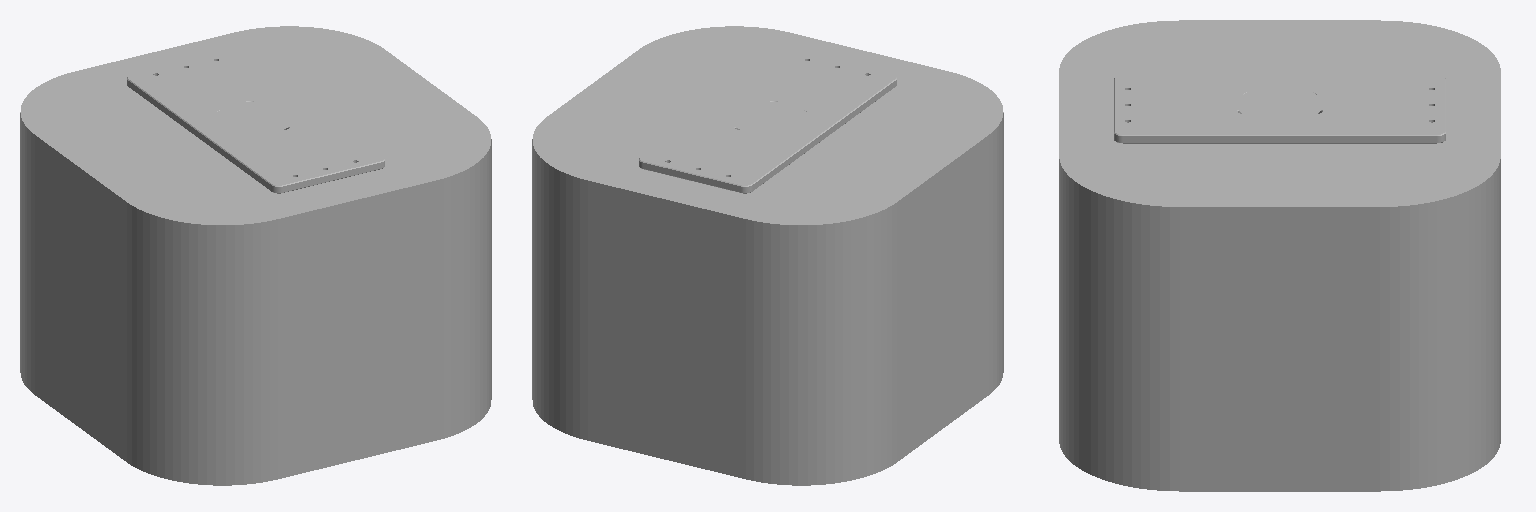
The robot description file, URDF, robot "gen3_robotiq_2f_85":
<?xml version="1.0" encoding="utf-8"?>
<!-- =================================================================================== -->
<!-- |    This document was autogenerated by xacro from gen3_robotiq_2f_85.xacro       | -->
<!-- |    EDITING THIS FILE BY HAND IS NOT RECOMMENDED                                 | -->
<!-- =================================================================================== -->
<robot name="gen3_robotiq_2f_85">
  <material name="Grey">
    <color rgba="0.75294 0.75294 0.75294 1"/>
  </material>
  <material name="DarkGrey">
    <color rgba="0.1 0.1 0.1 1"/>
  </material>
  <material name="LightGrey">
    <color rgba="0.9 0.9 0.9 1"/>
  </material>
  <material name="Blue">
    <color rgba="0.792156862745098 0.819607843137255 0.933333333333333 1"/>
  </material>
  <material name="Red">
    <color rgba="0.9 0.0 0.0 1"/>
  </material>
  <!-- Run the macros -->
  <link name="base_link">
    <inertial>
      <origin rpy="0 0 0" xyz="0 0 0.085"/>
      <mass value="1000.0"/>
      <inertia ixx="0.004622" ixy="9E-06" ixz="6E-05" iyy="0.004495" iyz="9E-06" izz="0.002079"/>
    </inertial>
    <visual>
      <origin rpy="0 0 0" xyz="0 0 0"/>
      <geometry>
        <mesh filename="package://ocs2_robotic_assets/resources/mobile_manipulator/kortex/meshes/mobile_base.obj"/>
      </geometry>
      <material name="Grey">
        <color rgba="0.75294 0.75294 0.75294 1"/>
      </material>
    </visual>
    <collision>
      <origin rpy="0 0 0" xyz="0 0 0"/>
      <geometry>
        <mesh filename="package://ocs2_robotic_assets/resources/mobile_manipulator/kortex/meshes/mobile_base.obj"/>
      </geometry>
    </collision>
  </link>
</robot>

--- What the picture shows (computed from the rendered views, not written in the file) ---
The picture shows the robot from 3 angles, left to right: view 1: azimuth 30°, elevation 25°; view 2: azimuth 150°, elevation 25°; view 3: azimuth 270°, elevation 25°; orthographic projection.
Model gen3_robotiq_2f_85 with 1 links and 0 joints (none), rooted at base_link, posed every joint at zero.
Links seen in each view (by area): view 1: base_link; view 2: base_link; view 3: base_link.
Link boxes in pixels (x1,y1,x2,y2): base_link: (20, 26, 491, 485); base_link: (532, 26, 1003, 485); base_link: (1059, 20, 1500, 491).
Bounding box of the posed robot: 0.465 × 0.465 × 0.3404 m (x, y, z).
1 mesh visuals loaded from 1 distinct referenced files (1 OBJ).